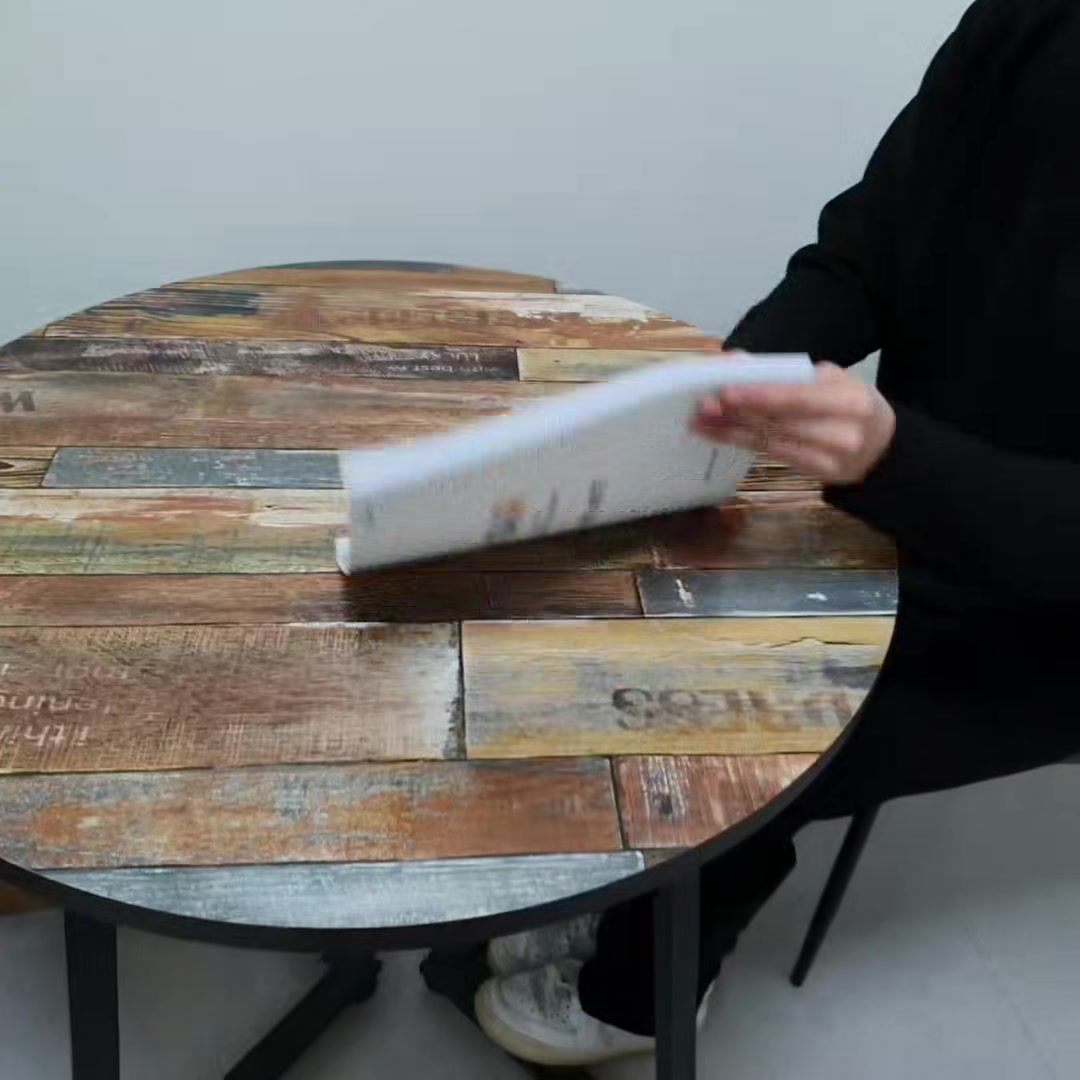book: (313, 329, 843, 608)
